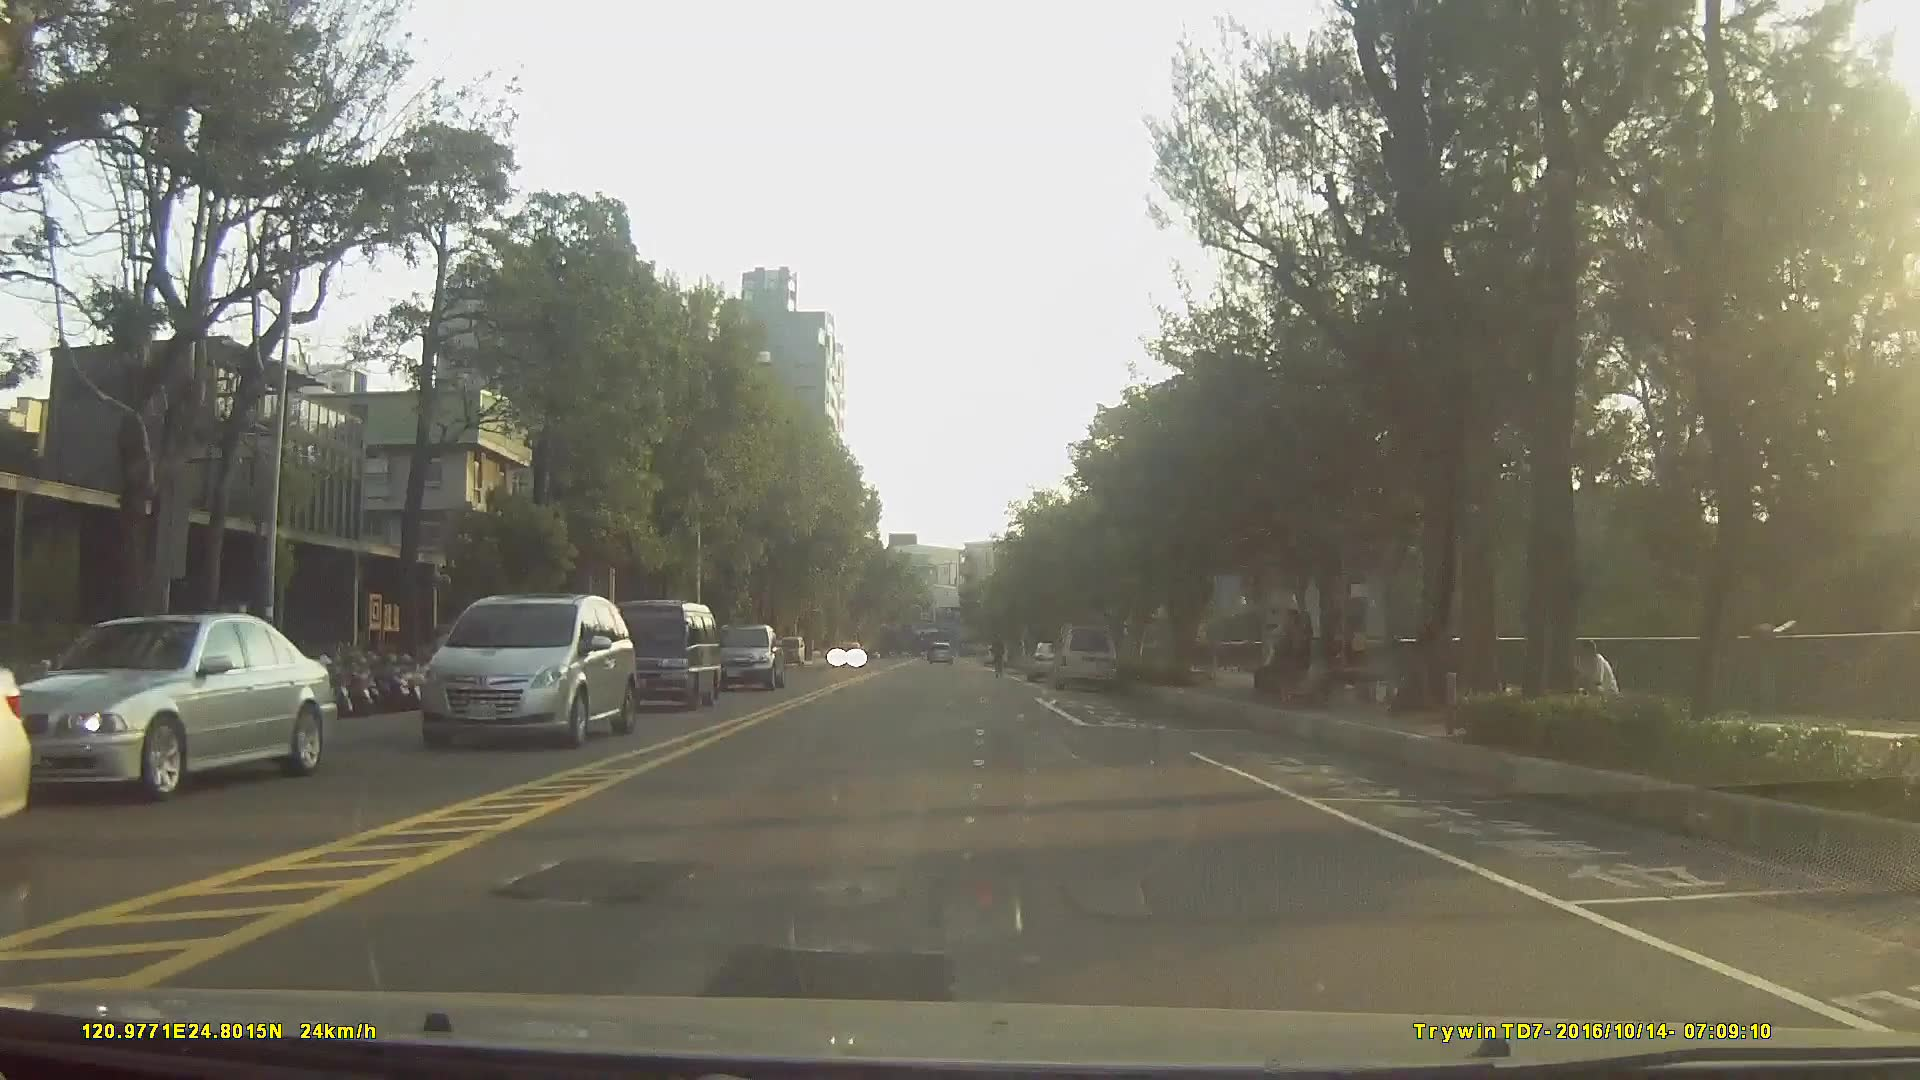pedestrian: (1249, 619, 1287, 702)
rider: (989, 630, 1009, 677)
vehicle: (0, 610, 335, 799), (417, 591, 635, 749), (605, 596, 722, 705), (705, 620, 785, 688), (1048, 624, 1116, 690), (1025, 637, 1071, 680), (773, 632, 807, 666), (828, 639, 864, 668), (924, 638, 955, 663)
